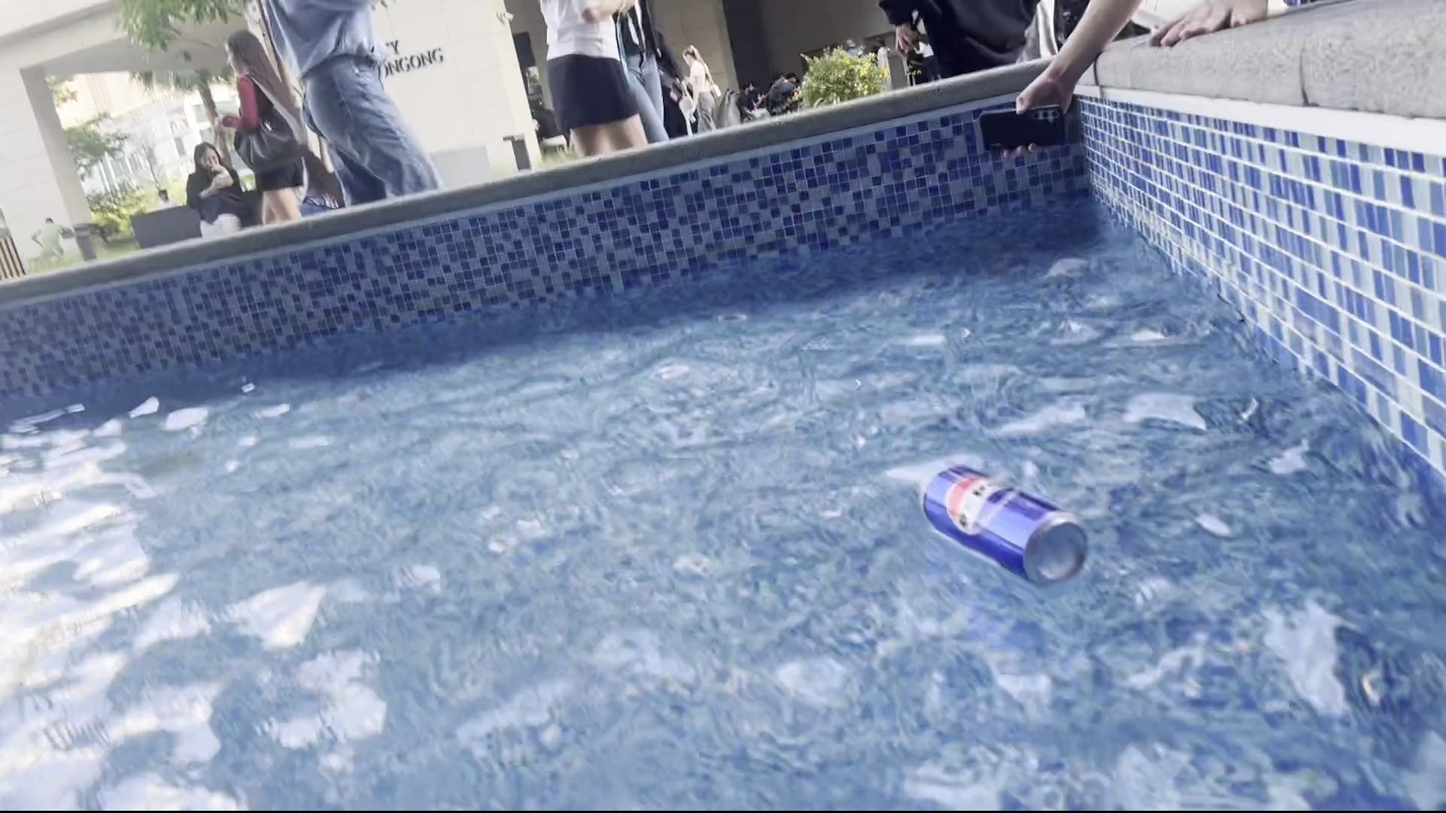debris: (908, 452, 1098, 594)
